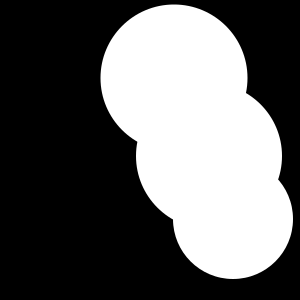circle: (267, 202, 274, 209)
rectangle: (100, 5, 248, 152), (136, 83, 282, 229), (173, 159, 293, 279)
triangle: (135, 49, 208, 122)
